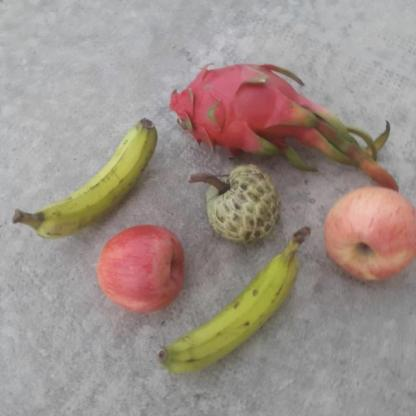annona: (201, 163, 280, 244)
apple: (318, 184, 415, 286), (93, 221, 188, 320)
banana: (151, 227, 312, 376), (7, 118, 157, 242)
pitaya: (166, 64, 322, 168)
